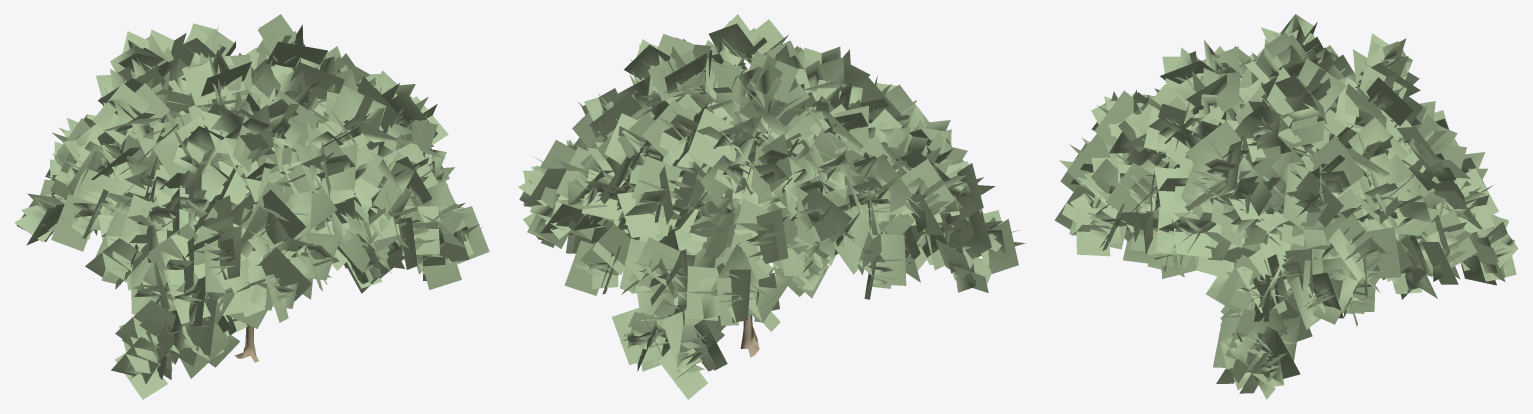
File: plain-tree.glb
3 views of the same model, side by side, from view 1: azimuth 30°, elevation 25°; view 2: azimuth 150°, elevation 25°; view 3: azimuth 270°, elevation 25° (orthographic).
Size of the model in its own units: 24.65 by 16.88 by 22.98.
